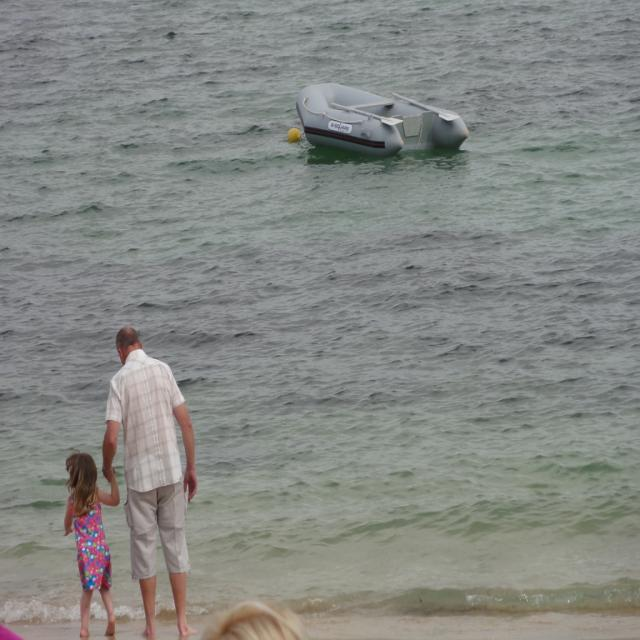Boat: (299, 77, 470, 162)
